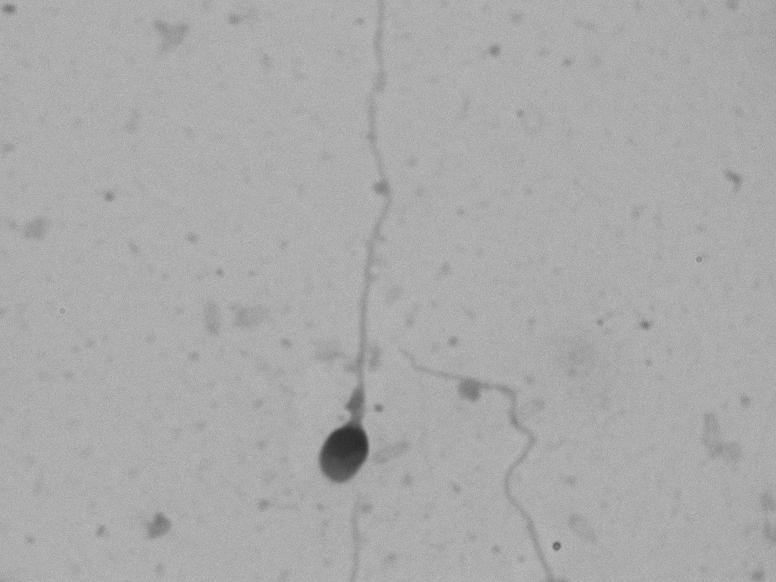Abnormal: (258, 2, 449, 502)
